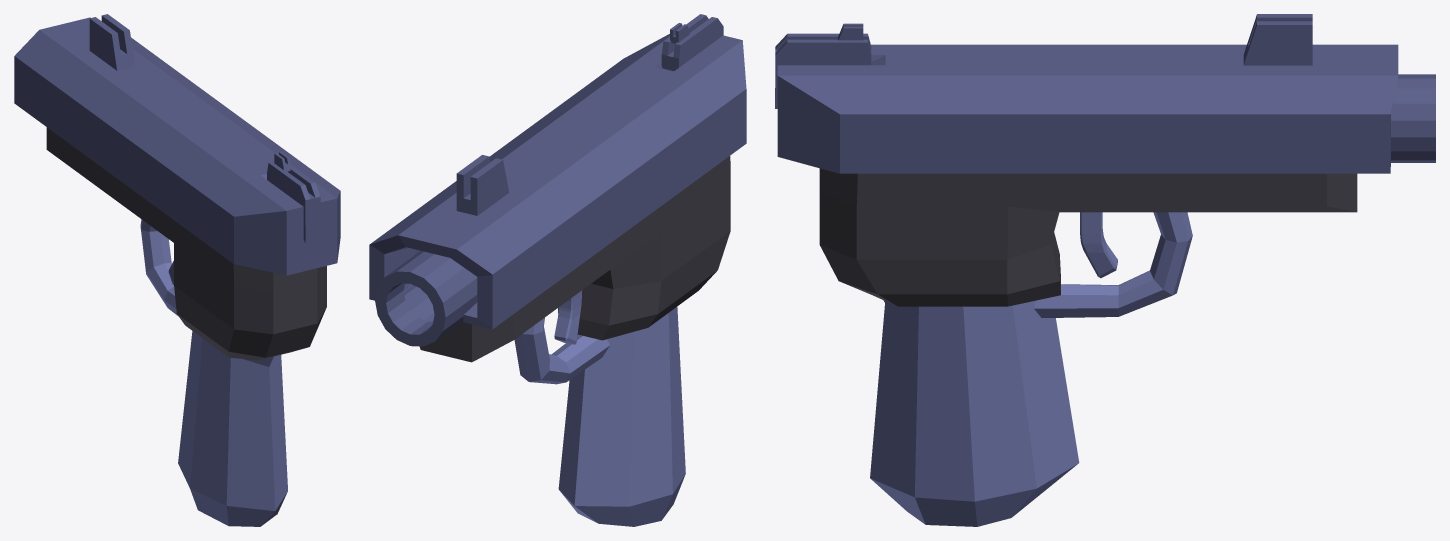
File: Guns_Single.fbx
The picture shows the model from 3 angles, left to right: view 1: azimuth 30°, elevation 25°; view 2: azimuth 150°, elevation 25°; view 3: azimuth 270°, elevation 25°; orthographic projection. The views are drawn at different scales.
Visible parts, largest first — view 1: Gun_Single; view 2: Gun_Single; view 3: Gun_Single.
Boxes of the visible parts, x1=… form: Gun_Single: x1=14, y1=14, x2=340, y2=526; Gun_Single: x1=369, y1=14, x2=746, y2=526; Gun_Single: x1=775, y1=14, x2=1435, y2=526.
Bounding box in the file's own units: 69.27 × 244 × 297.
